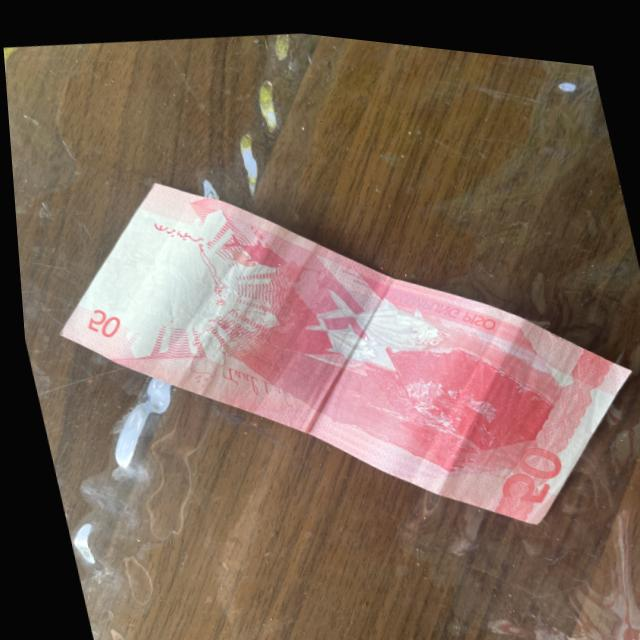50_maliputo: (298, 263, 449, 380)
50_maliputo_watermark: (201, 211, 290, 276)
